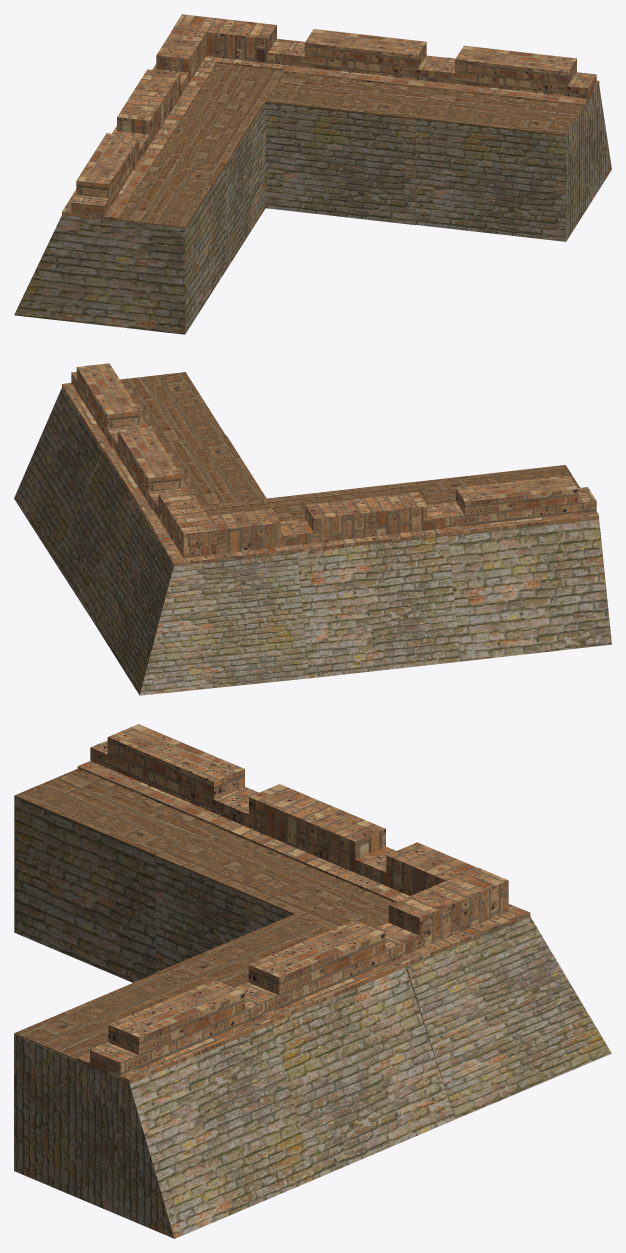
File: Revalin.fbx
3 renders of one model, top to bottom at view 1: azimuth 30°, elevation 25°; view 2: azimuth 150°, elevation 25°; view 3: azimuth 270°, elevation 25°, orthographic. The views are drawn at different scales.
Visible parts, largest first — view 1: RampartBody.003, RampartBody.005, RampartBody.004, RampartFloor.003, Rampart.006, Rampart.004, Rampart.003, Rampart.005, RampartFloor.006, RampartFloor.004, RampartFloor.005, RampartBody.006 (+1 smaller); view 2: RampartBody.007, RampartBody.005, RampartBody.006, Rampart.003, RampartBody.003, RampartBody.004, Rampart.005, RampartFloor.006, RampartFloor.004, Rampart.006, Rampart.004, StoneRampartWithStair (+2 smaller); view 3: RampartBody.003, RampartBody.007, RampartBody.004, RampartBody.005, Rampart.003, RampartFloor.003, Rampart.006, Rampart.005, Rampart.004, RampartBody.006, RampartFloor.005, StoneRampartWithStair (+2 smaller).
Boxes of the visible parts, x1,y1,x2,y2 form: RampartBody.003: (416, 84, 611, 241); RampartBody.005: (14, 166, 225, 334); RampartBody.004: (265, 102, 415, 225); RampartFloor.003: (159, 63, 283, 164); Rampart.006: (434, 45, 599, 107); Rampart.004: (282, 29, 445, 89); Rampart.003: (112, 28, 217, 155); Rampart.005: (62, 133, 158, 221); RampartFloor.006: (415, 89, 583, 135); RampartFloor.004: (265, 72, 432, 119); RampartFloor.005: (118, 156, 225, 228); RampartBody.006: (225, 103, 265, 270); RampartBody.007: (95, 511, 309, 695); RampartBody.005: (448, 518, 611, 661); RampartBody.006: (297, 535, 460, 678); Rampart.003: (208, 492, 447, 559); RampartBody.003: (14, 388, 102, 561); RampartBody.004: (55, 451, 141, 624); Rampart.005: (437, 475, 598, 535); RampartFloor.006: (120, 372, 225, 442); RampartFloor.004: (161, 435, 266, 505); Rampart.006: (62, 363, 148, 451); Rampart.004: (103, 426, 189, 512); StoneRampartWithStair: (143, 490, 228, 566); RampartBody.003: (14, 1024, 315, 1238); RampartBody.007: (405, 916, 611, 1119); RampartBody.004: (271, 967, 454, 1178); RampartBody.005: (14, 797, 155, 982); Rampart.003: (219, 784, 476, 902); RampartFloor.003: (155, 828, 393, 929); Rampart.006: (77, 979, 271, 1084); Rampart.005: (77, 724, 258, 827); Rampart.004: (235, 920, 411, 1023); RampartBody.006: (155, 857, 292, 972); RampartFloor.005: (14, 768, 218, 856); StoneRampartWithStair: (375, 867, 530, 963).
Size of the model in its own units: 1178 by 251 by 796.
